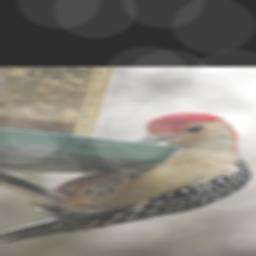Woodpecker: (0, 112, 250, 249)
